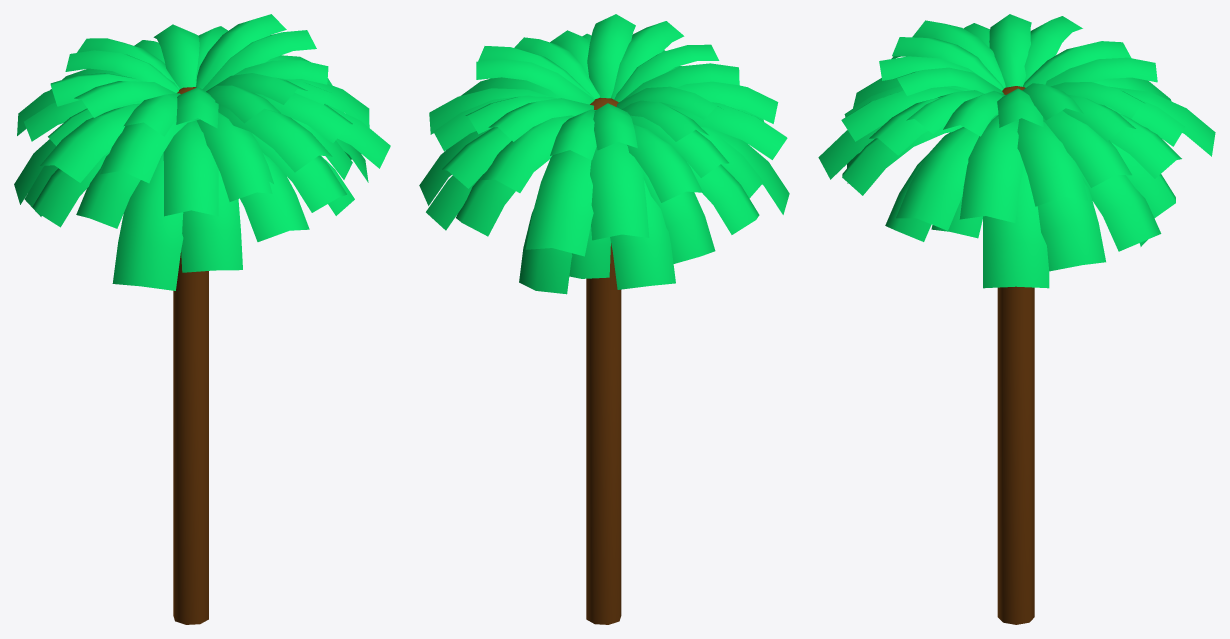
File: Low_tree_1.fbx
3 views of the same model, side by side, from view 1: azimuth 30°, elevation 25°; view 2: azimuth 150°, elevation 25°; view 3: azimuth 270°, elevation 25° (orthographic). The views are drawn at different scales.
Visible parts, largest first — view 1: Low_tree_1; view 2: Low_tree_1; view 3: Low_tree_1.
Part boxes in pixels (box(x1,y1,x2,y2)): Low_tree_1: box(14, 14, 390, 624); Low_tree_1: box(419, 14, 789, 624); Low_tree_1: box(818, 14, 1215, 624).
Bounding box in the file's own units: 457 × 733 × 467.
